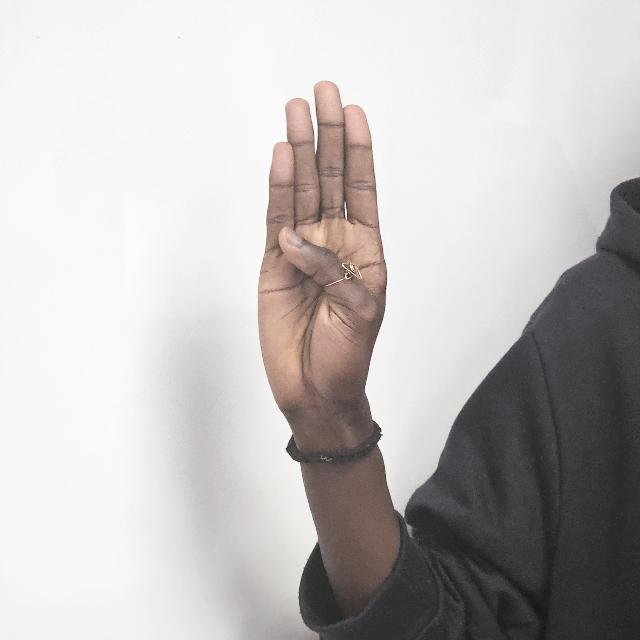Baixo: (250, 71, 396, 461)
